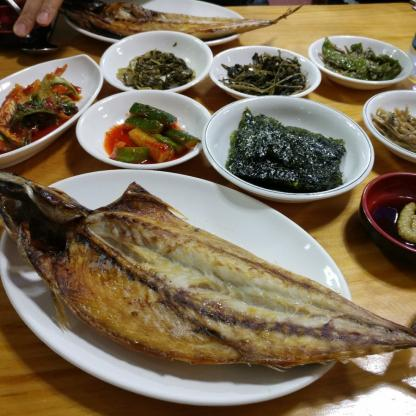Peixe: (0, 165, 416, 416)
